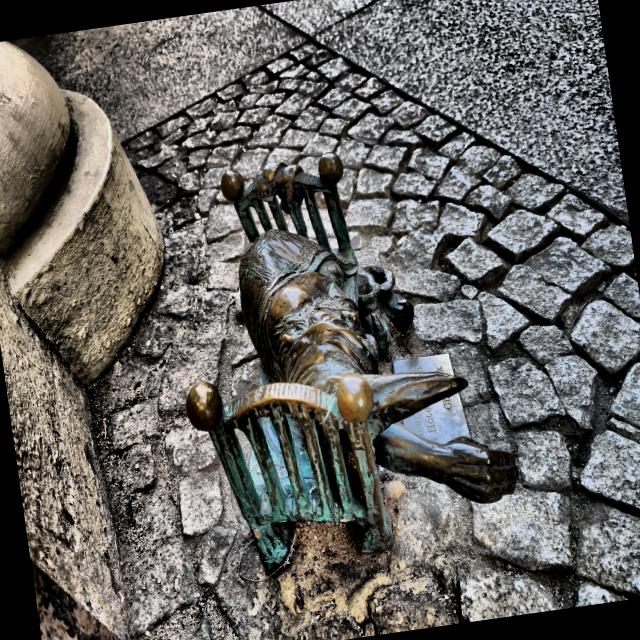Chrapek: (186, 153, 518, 571)
